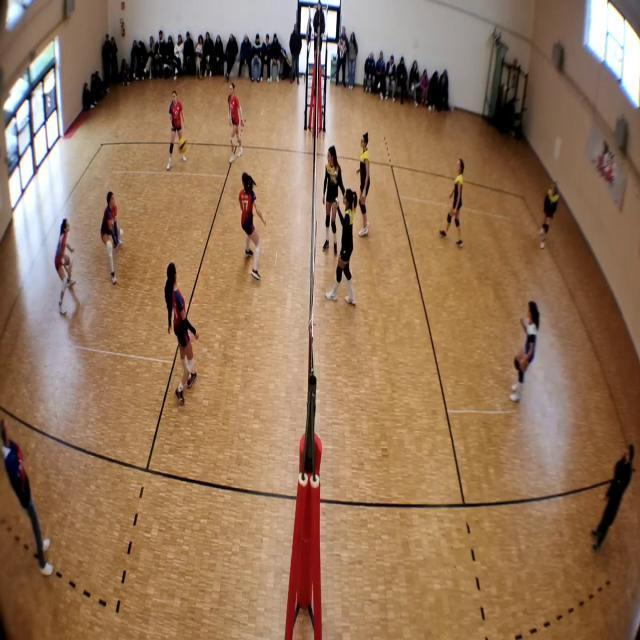volleyball: (177, 138, 186, 154)
